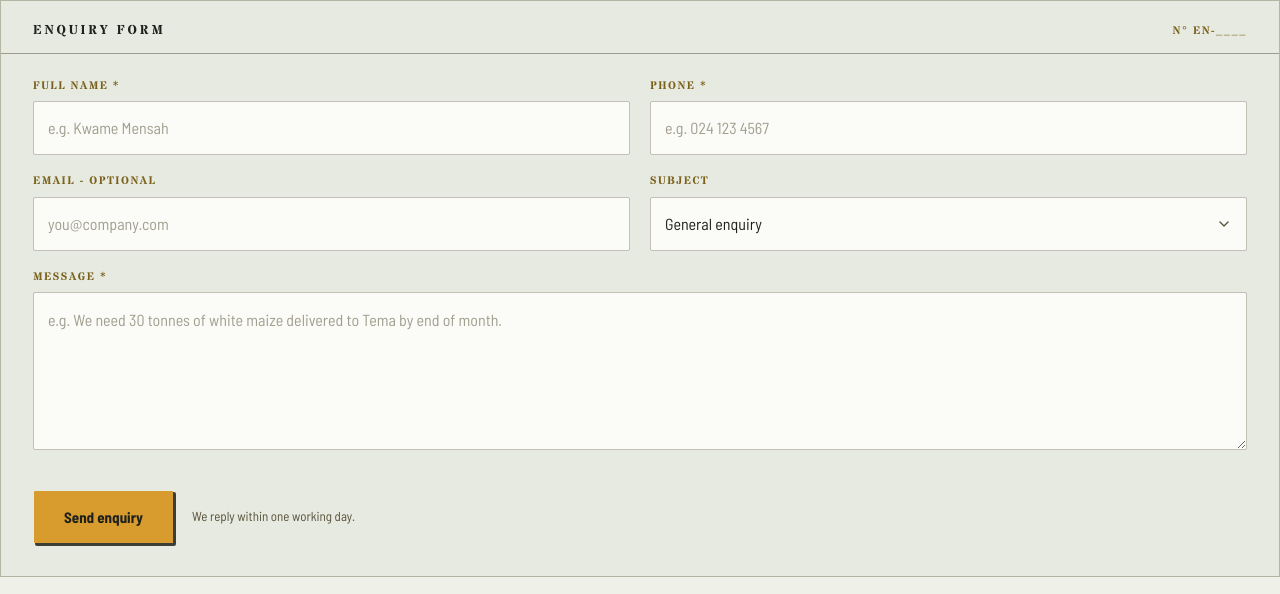
EnquiryForm › files the enquiry and shows the RECEIVED state with the reference
The width and height of the screenshot is (1280, 594).
Type "Kwame Mensah" into the field labelled "FULL NAME *" at {"x": 332, "y": 128}, box [33,101,630,155]
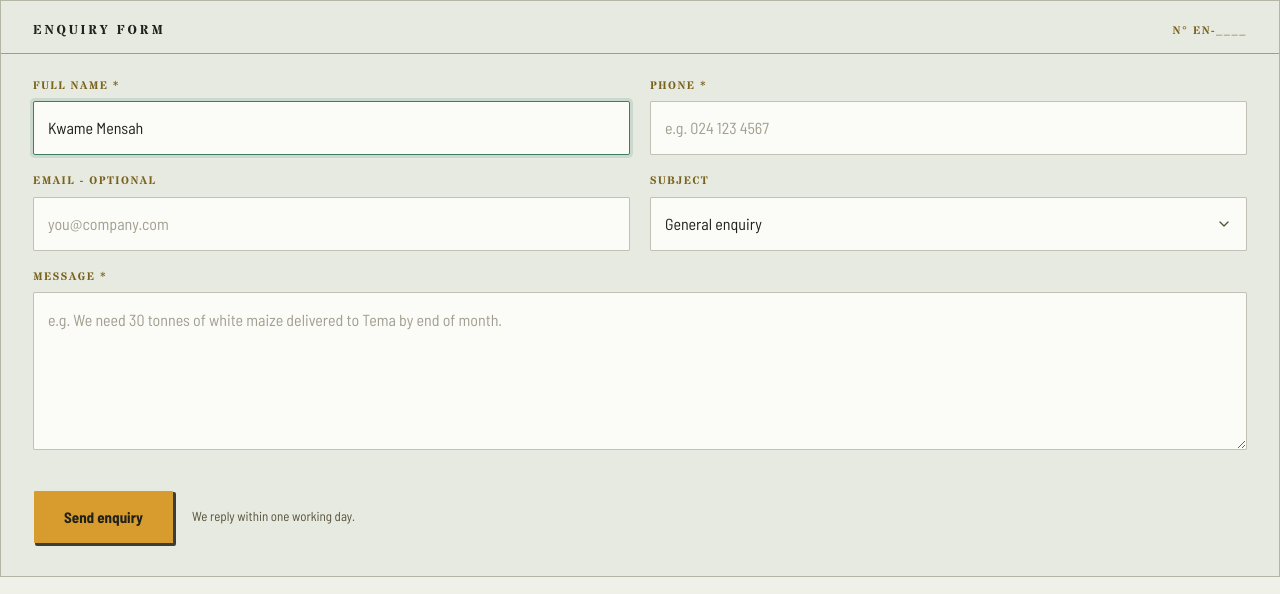
Type "024 123 4567" into the field labelled "PHONE *" at {"x": 948, "y": 128}, box [650,101,1247,155]
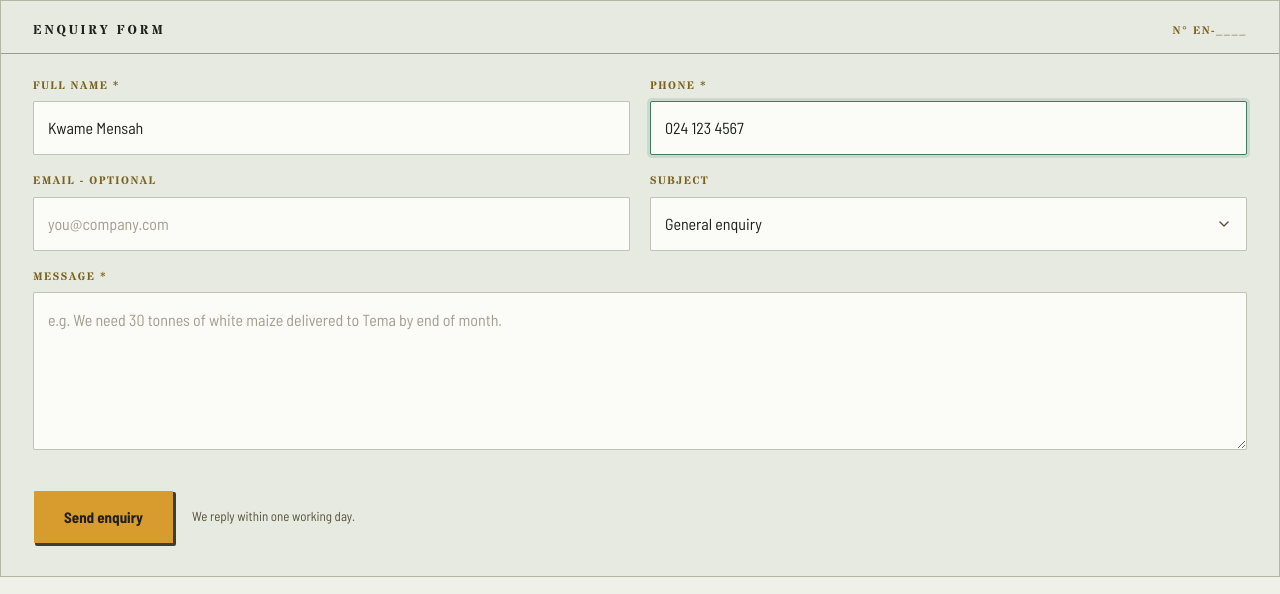
Type "We need 30 tonnes of white maize delivered to Tema." into the text box labelled "MESSAGE *" at {"x": 640, "y": 371}, box [33,292,1247,450]
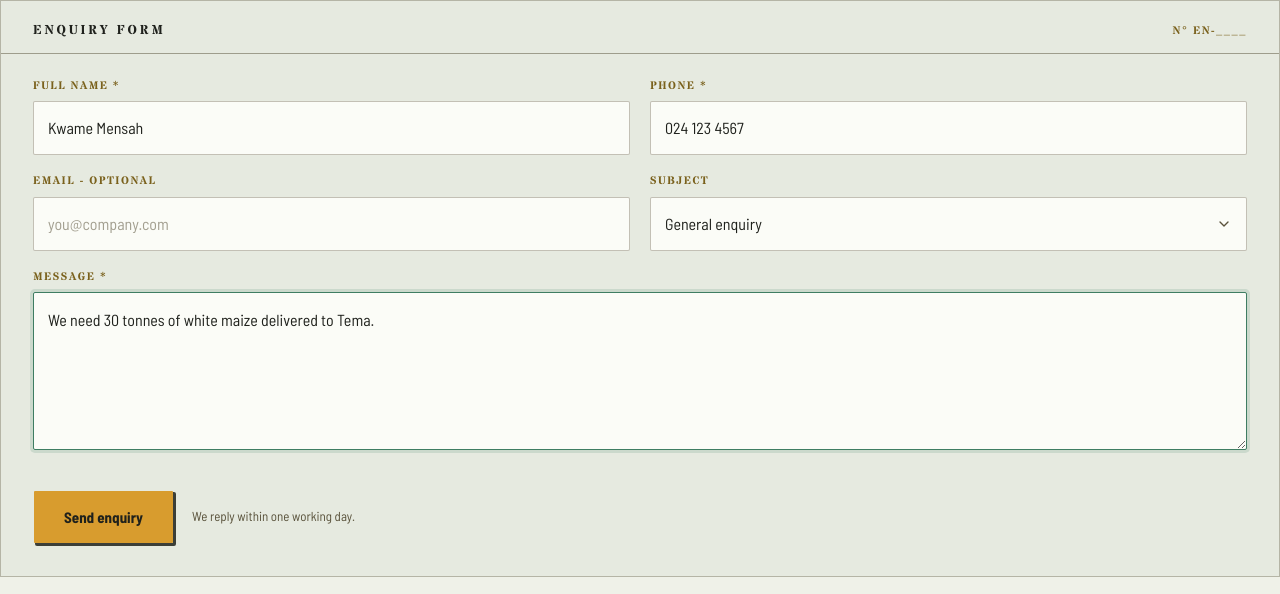
Click the button "Send enquiry" at {"x": 104, "y": 517}, box [33,490,174,544]
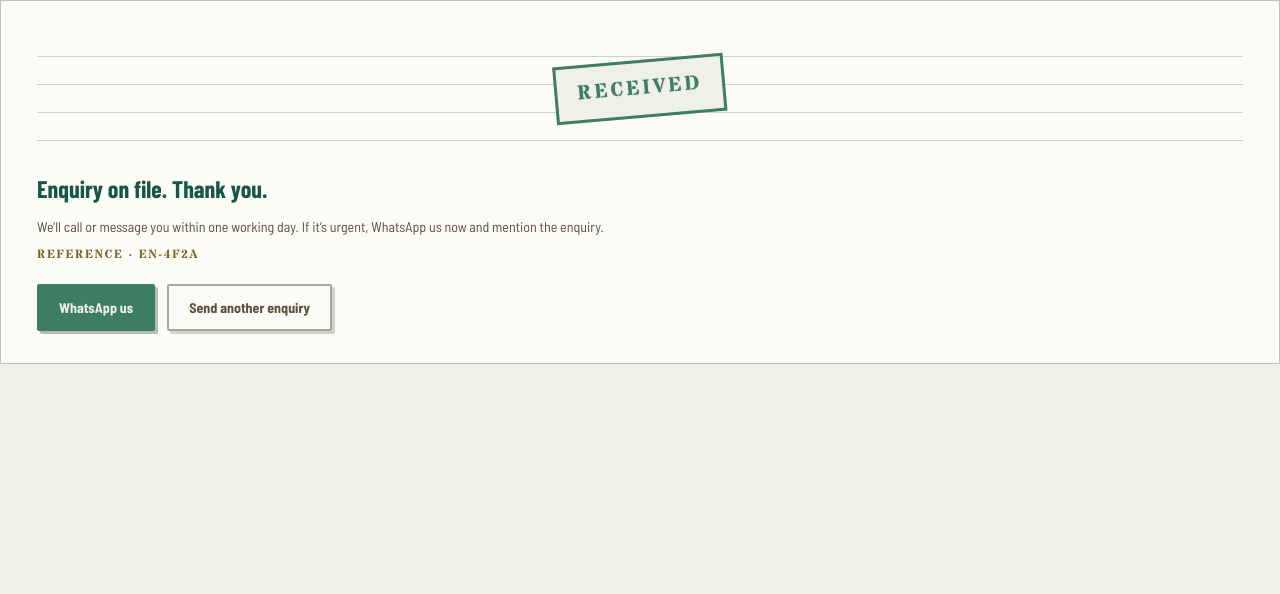
Check: the heading "Enquiry on file. Thank you." is shown, box [37,174,267,203]
Check: the text "REFERENCE · EN-4F2A" is shown, box [37,246,199,263]
